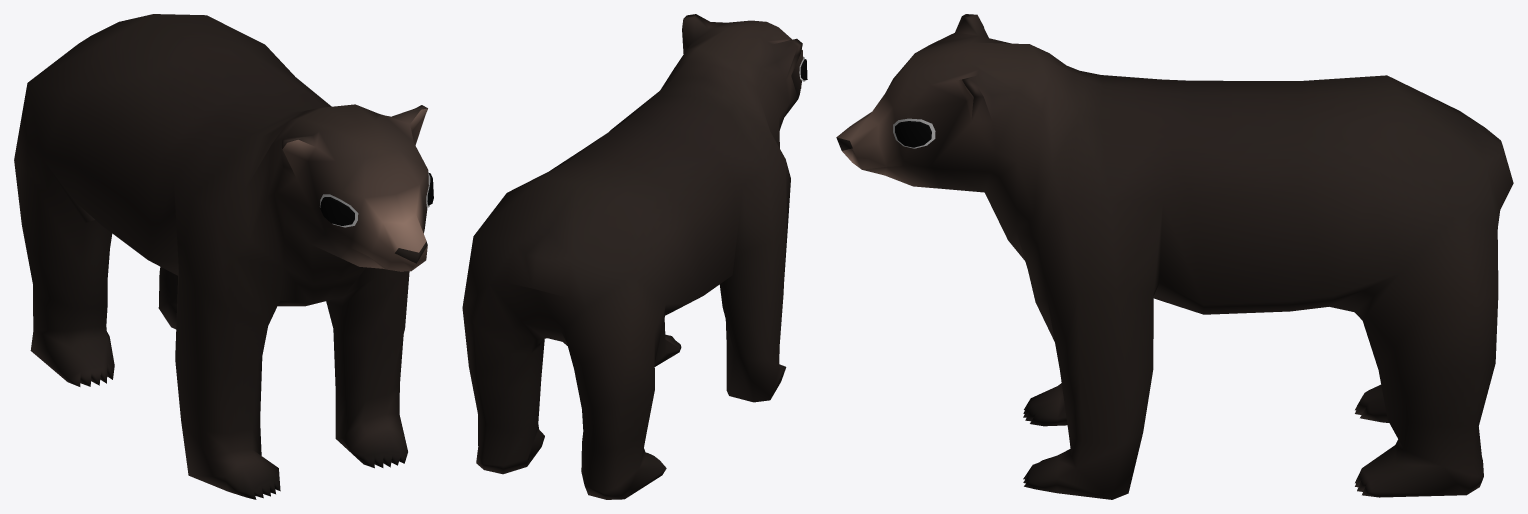
The model's file is BrownBear2.gltf.
The picture shows the model from 3 angles, left to right: view 1: azimuth 30°, elevation 25°; view 2: azimuth 150°, elevation 25°; view 3: azimuth 270°, elevation 25°; orthographic projection. The views are drawn at different scales.
Parts seen in each view (by area): view 1: alt577; view 2: alt577; view 3: alt577.
Part boxes in pixels (left/top/right/bottom): alt577: left=14, top=14, right=433, bottom=499; alt577: left=462, top=14, right=807, bottom=499; alt577: left=836, top=14, right=1513, bottom=499.
Bounding box in the file's own units: 0.8084 × 1.32 × 2.02.
